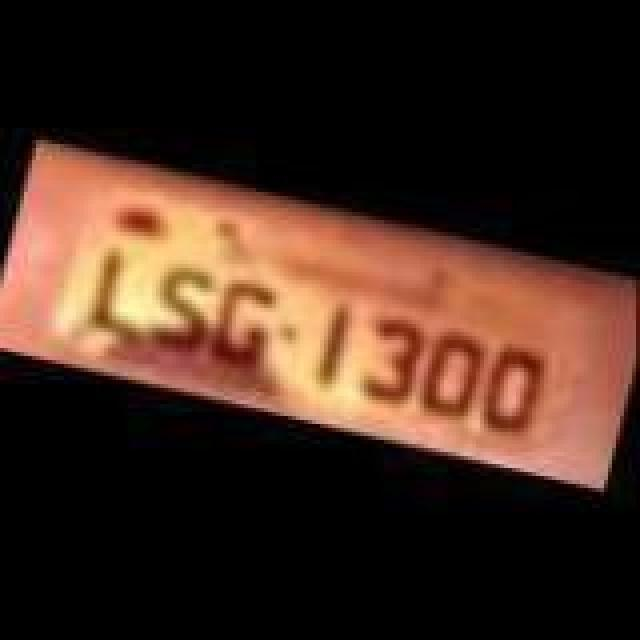1: (310, 298, 358, 390)
3: (356, 312, 432, 416)
G: (206, 270, 286, 374)
L: (82, 246, 154, 342)
O: (414, 328, 494, 428), (474, 346, 546, 442)
S: (138, 260, 218, 360)
